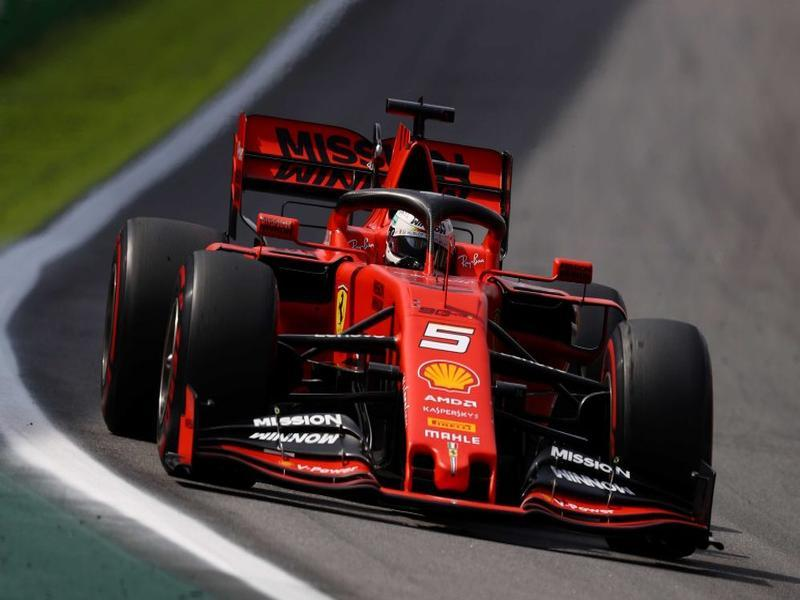racecar: (100, 85, 740, 562)
